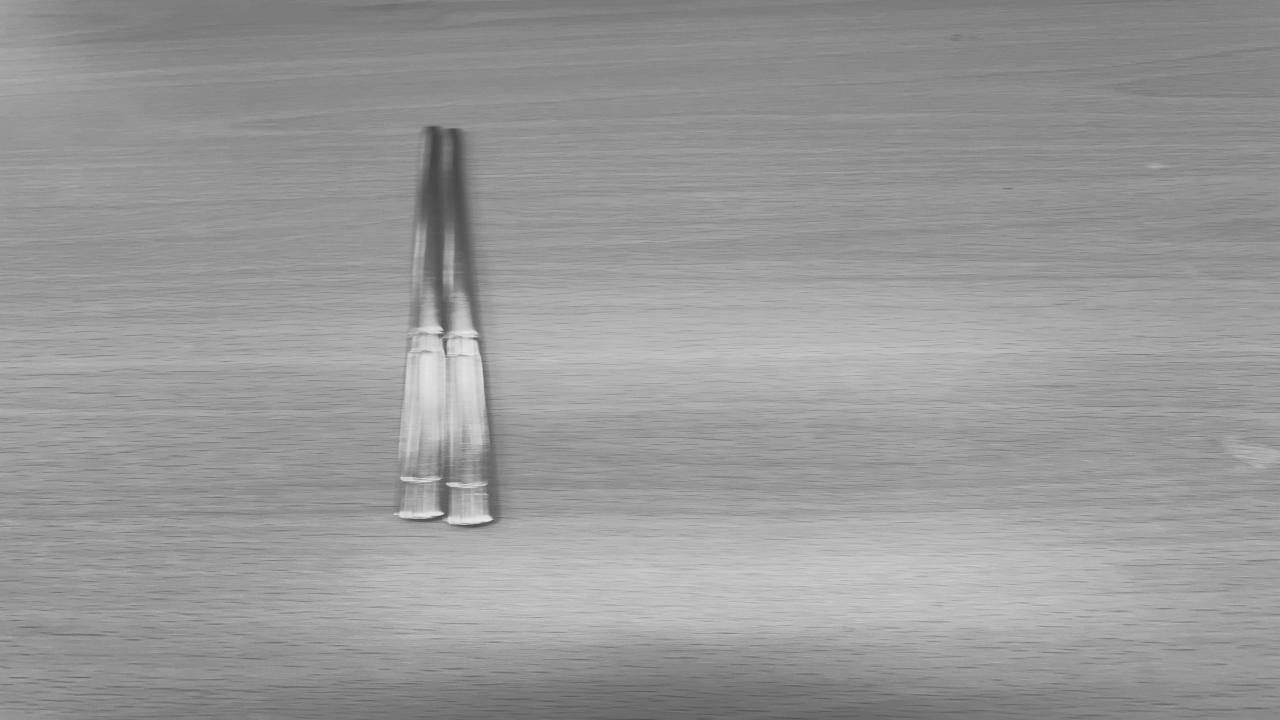chopstick: (396, 126, 497, 526)
